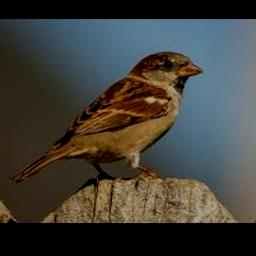Sparrow: (10, 52, 204, 183)
